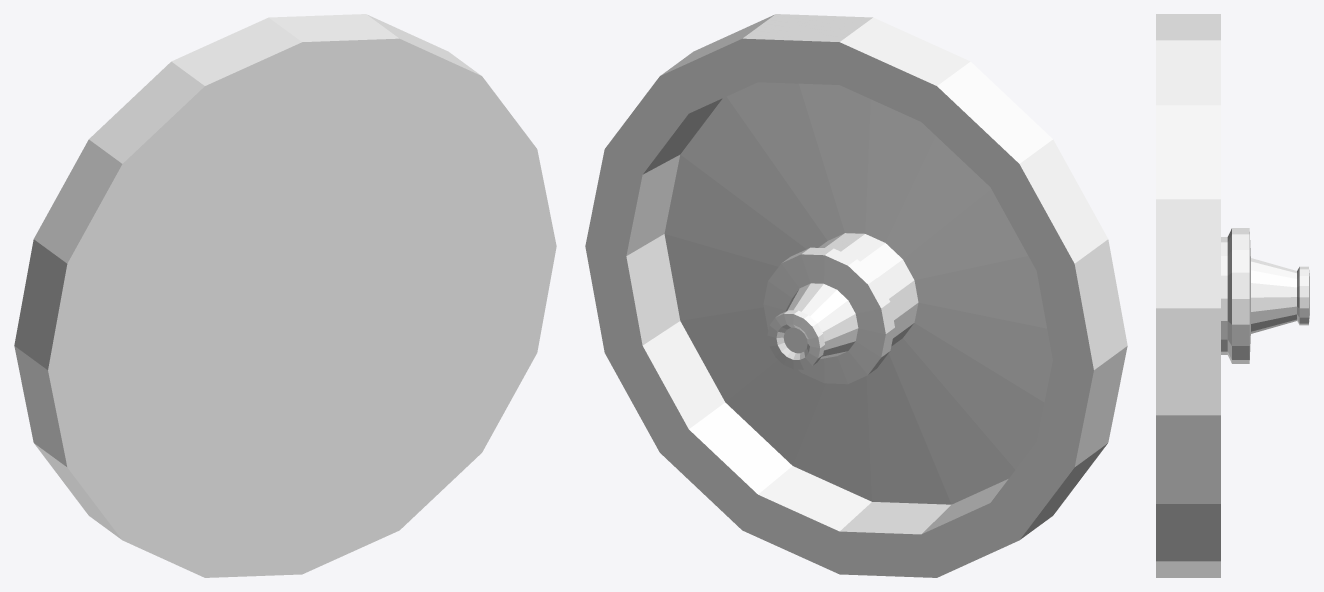
File: venice_fonde_0.fbx
3 views of the same model, side by side, from view 1: azimuth 30°, elevation 25°; view 2: azimuth 150°, elevation 25°; view 3: azimuth 270°, elevation 25° (orthographic). The views are drawn at different scales.
Parts seen in each view (by area): view 1: Cylinder.037; view 2: Cylinder.037; view 3: Cylinder.037.
Part boxes in pixels (x1,y1,x2,y2): Cylinder.037: [14, 14, 556, 577]; Cylinder.037: [585, 14, 1127, 577]; Cylinder.037: [1156, 14, 1309, 577].
Size of the model in its own units: 2007 by 2007 by 547.
